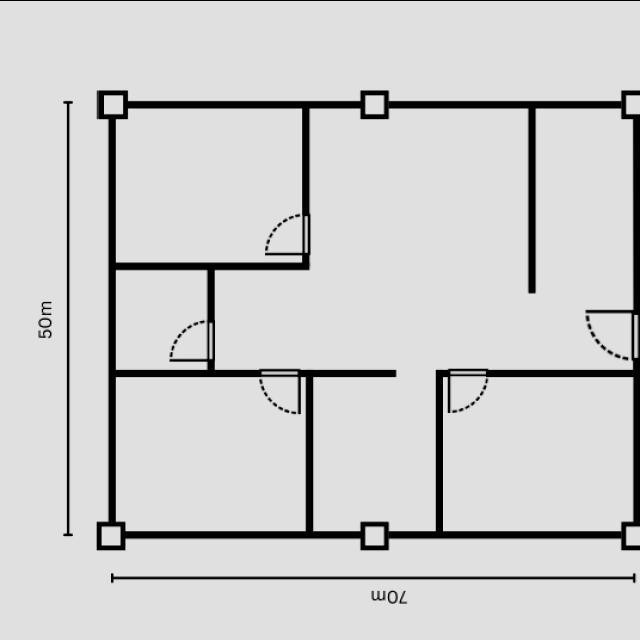column: (95, 87, 133, 122), (358, 519, 392, 553), (358, 87, 392, 120), (95, 518, 127, 552), (618, 518, 640, 554), (618, 87, 640, 121)
